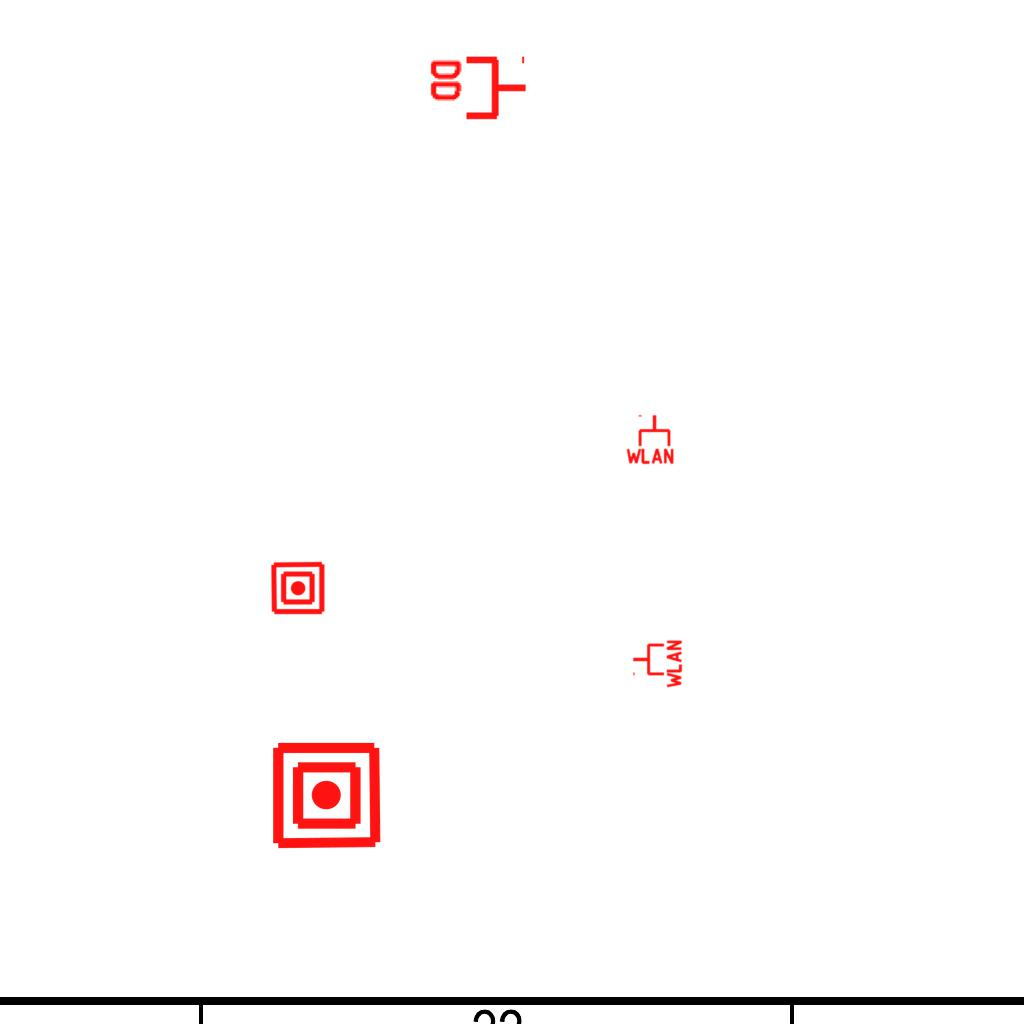Datenanschluss_zweifach: (426, 55, 529, 124)
NAM-Nichtautomatischer_Melder: (270, 739, 383, 852), (270, 560, 326, 616)
WLAN: (631, 638, 683, 690), (624, 413, 676, 465)
